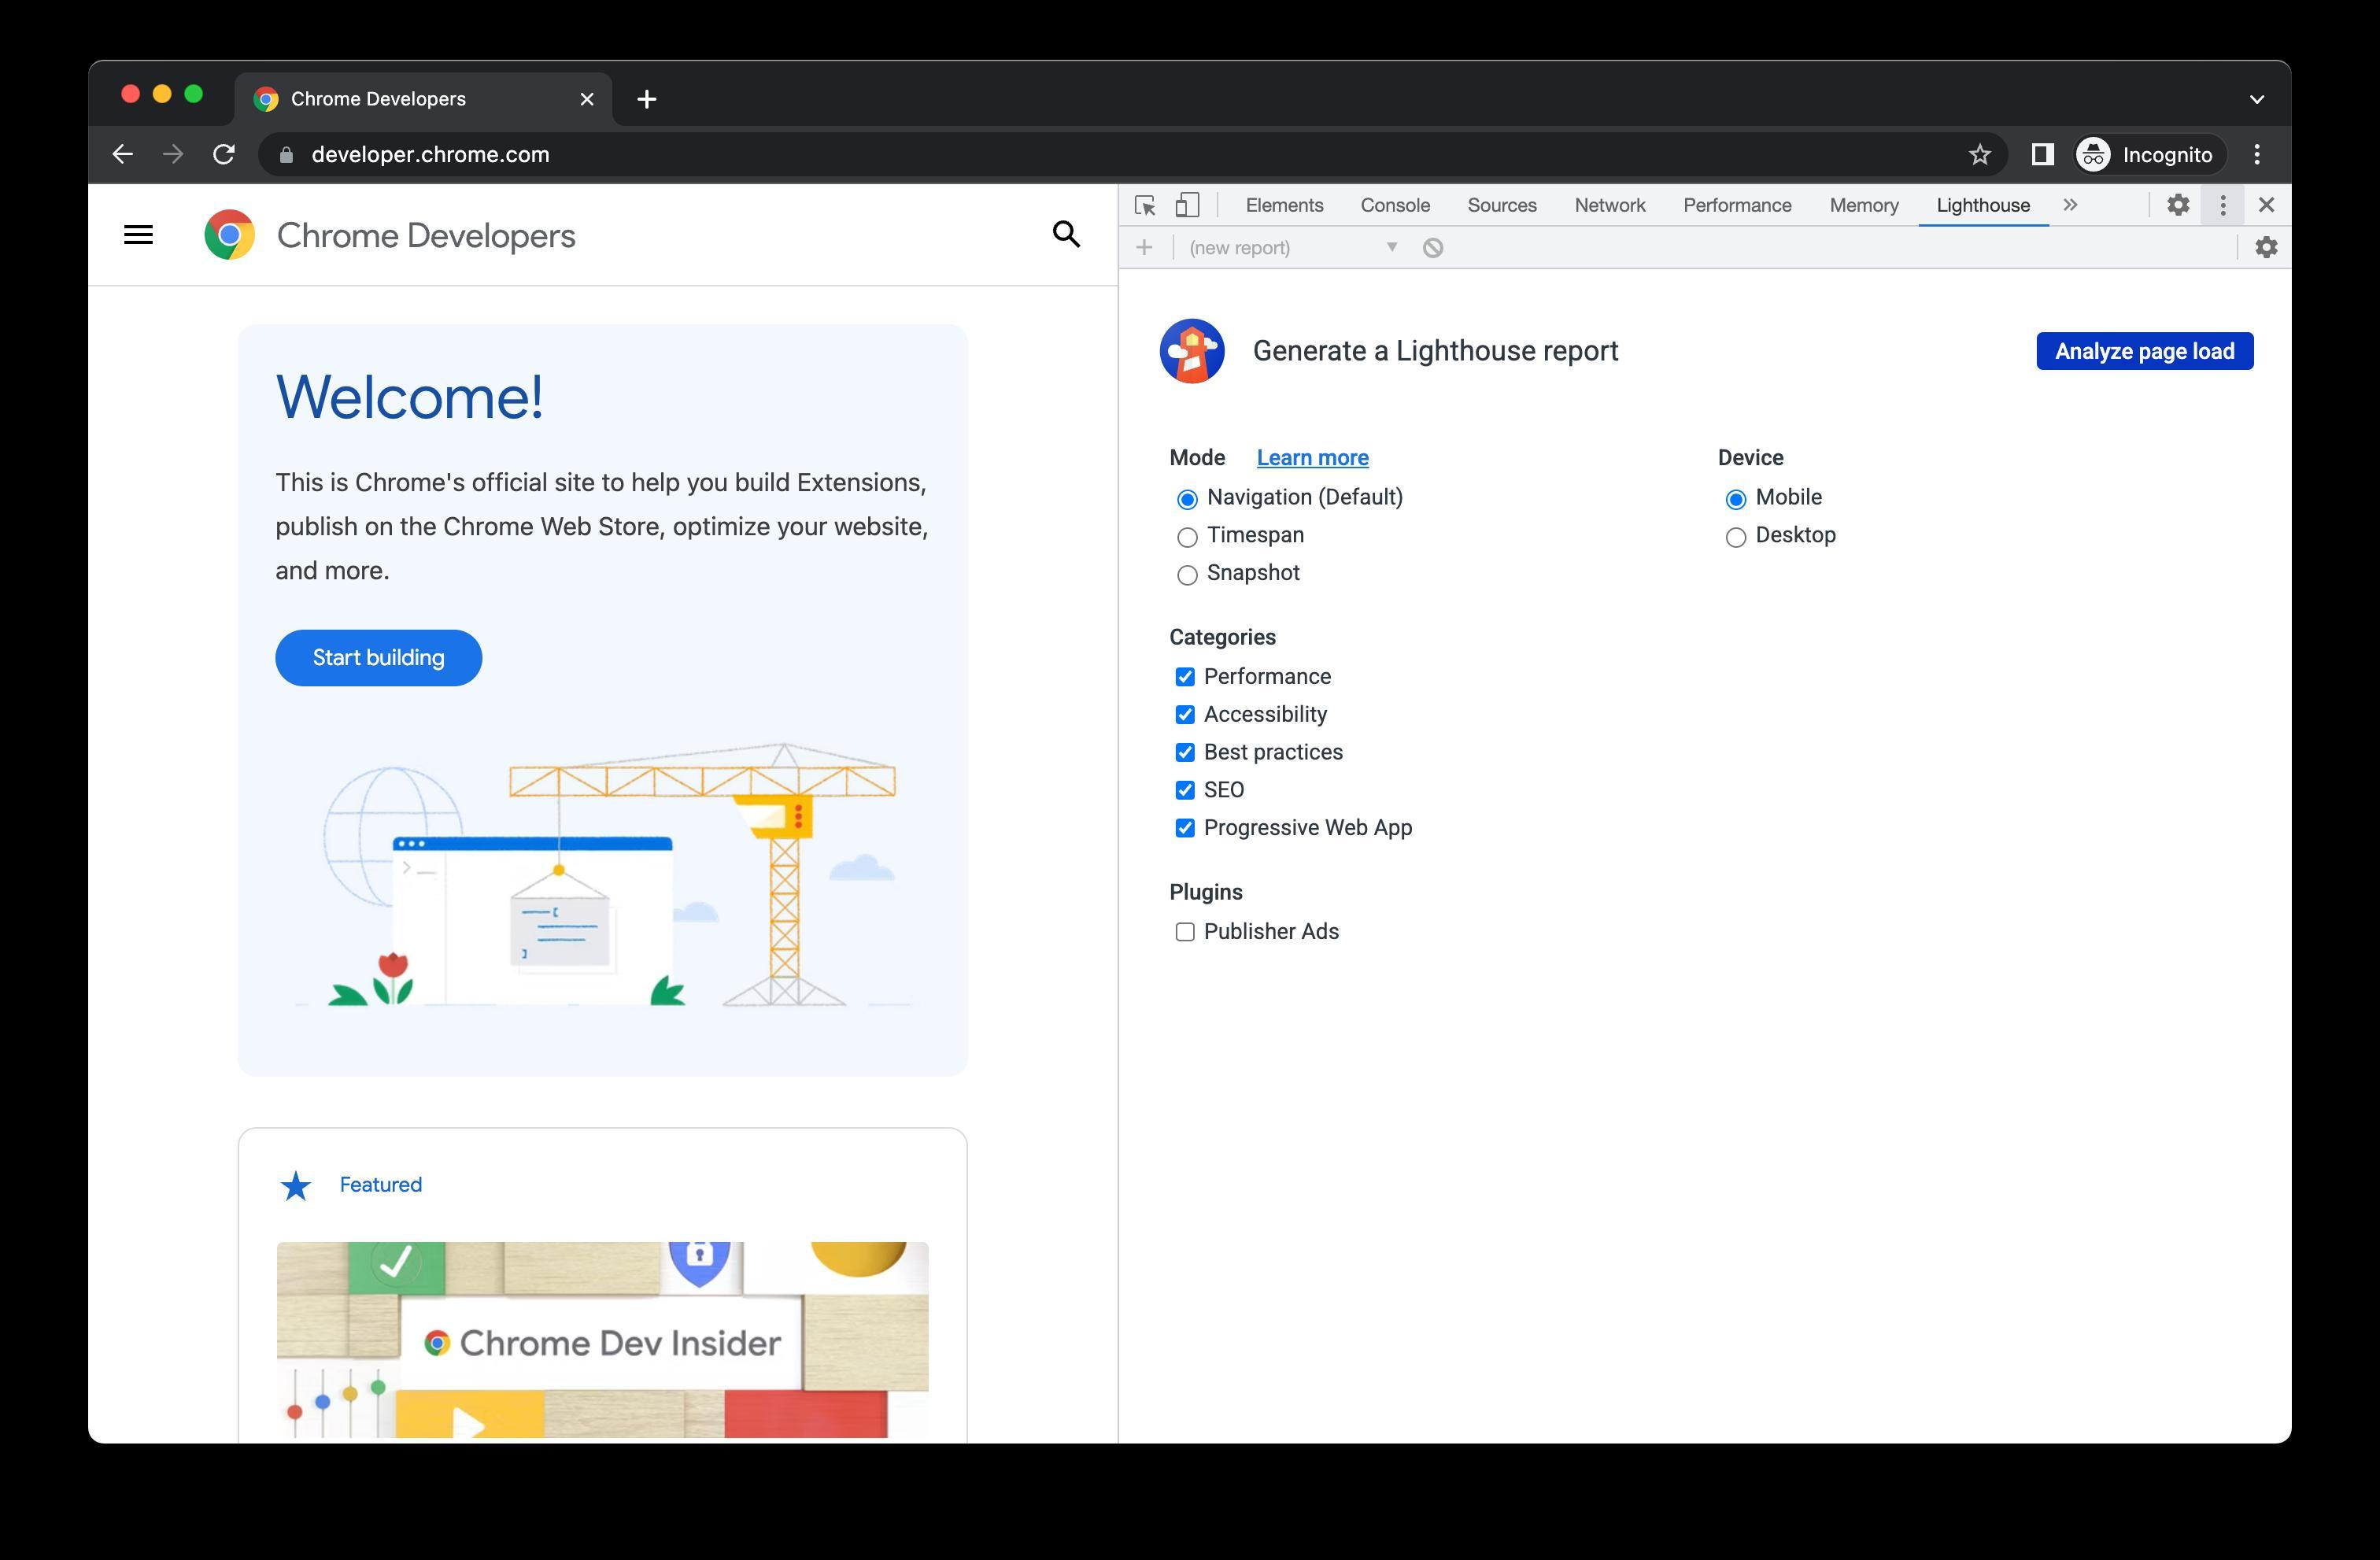button: (275, 630, 484, 688), (2035, 331, 2256, 373)
checkbox: (1177, 669, 1196, 688), (1177, 743, 1196, 763), (1177, 782, 1196, 801), (1177, 707, 1196, 724), (1177, 820, 1196, 837), (1177, 925, 1196, 942)
label: (1200, 813, 1419, 848), (1205, 484, 1410, 514), (1205, 911, 1353, 951), (1200, 735, 1349, 771), (1205, 660, 1334, 688), (1208, 519, 1309, 552), (1203, 705, 1328, 730), (1205, 557, 1306, 587), (1750, 522, 1846, 552), (1757, 482, 1830, 508), (1200, 773, 1248, 804)
radio: (1724, 489, 1748, 514), (1177, 489, 1200, 512), (1727, 528, 1748, 550), (1179, 528, 1200, 550), (1177, 566, 1200, 587)
